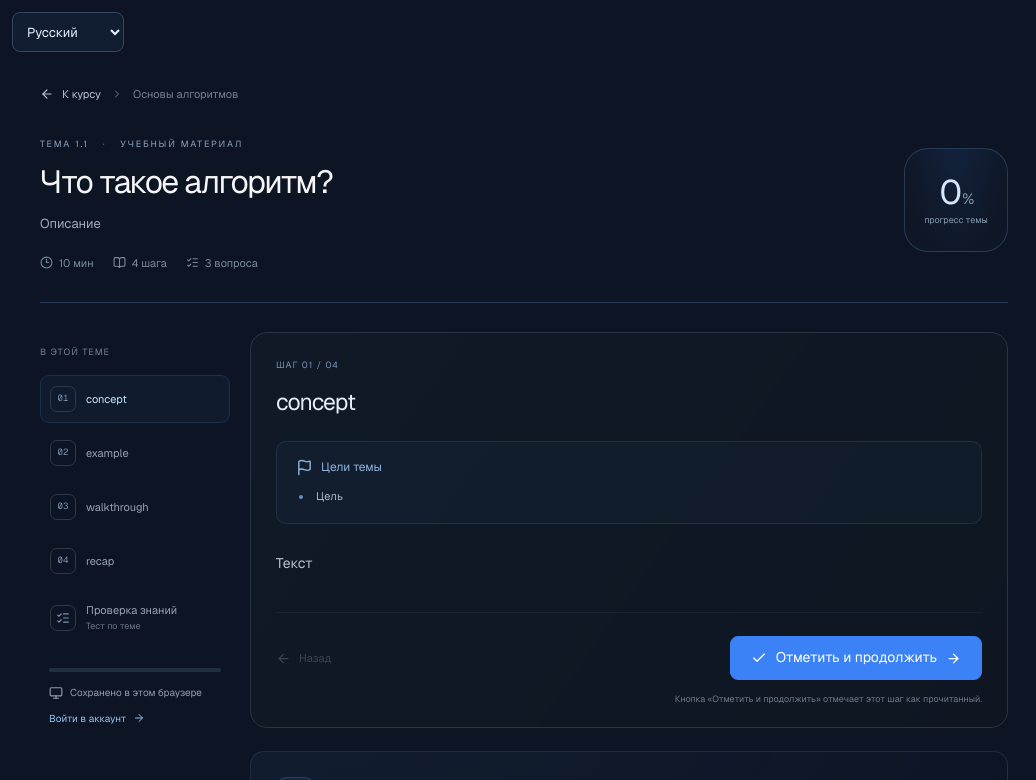
Test: language selection › keeps lesson position and answers when language changes
The image size is (1036, 780).
Click the button "Проверка знаний Тест по теме" at (135, 618), box top-left (40, 591), bottom-right (230, 645)
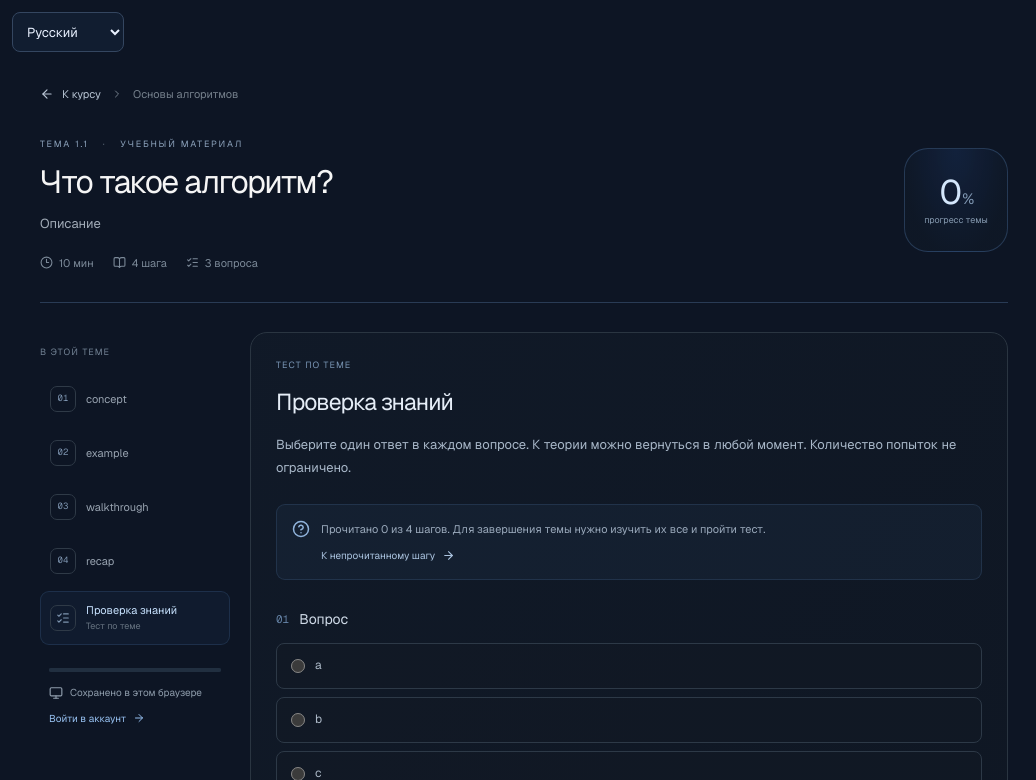
Click the radio button labelled "a" at (298, 666), box top-left (291, 659), bottom-right (305, 673)
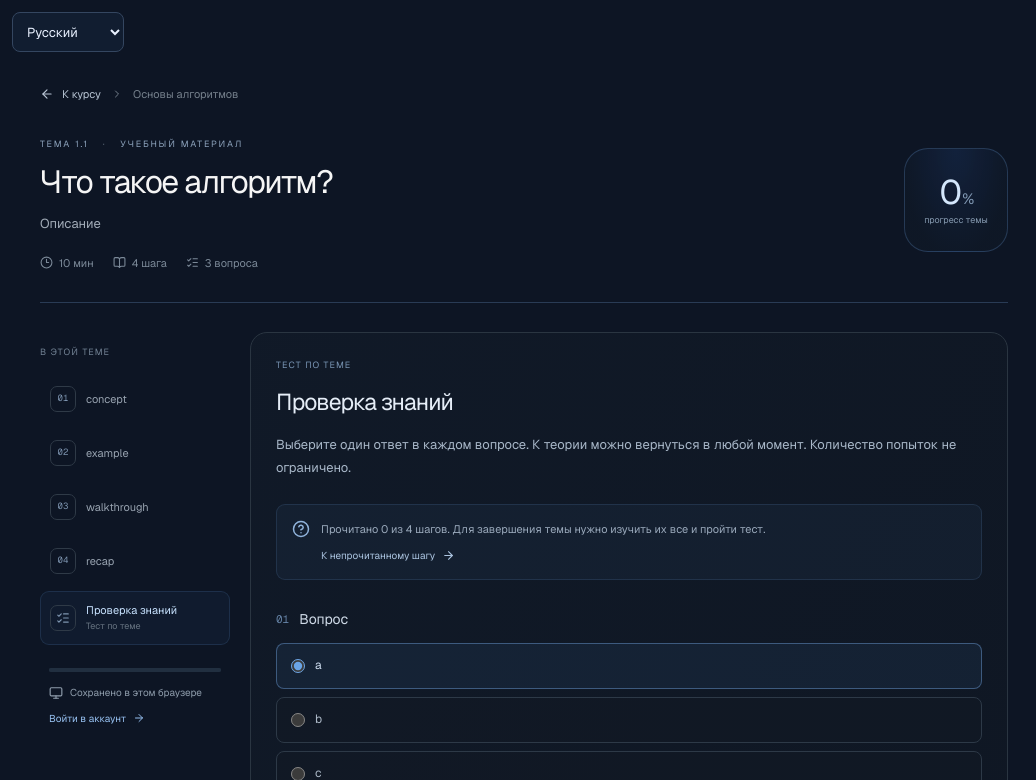
Select "English" in the dropdown at (68, 32), box top-left (12, 12), bottom-right (124, 52)
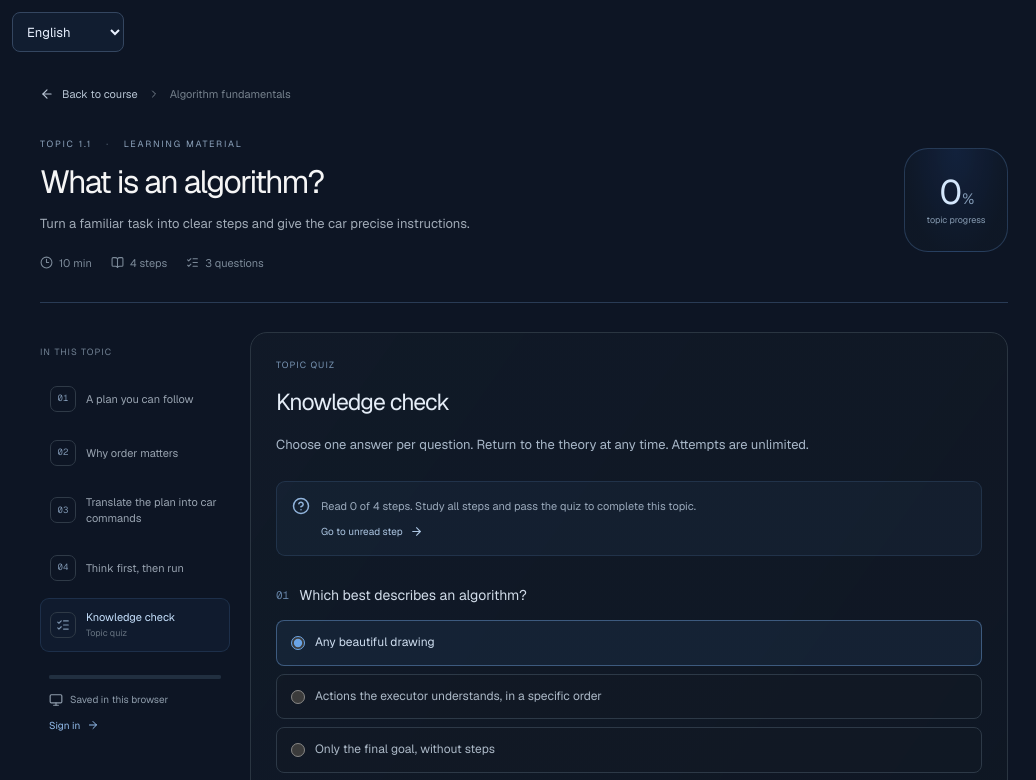
Expected: the radio button labelled "Any beautiful drawing" is checked, top-left (291, 636), bottom-right (305, 650)
Expected: the text "Which best describes an algorithm?" is shown, top-left (299, 586), bottom-right (527, 604)
Select "Қазақша" in the dropdown at (68, 32), box top-left (12, 12), bottom-right (124, 52)
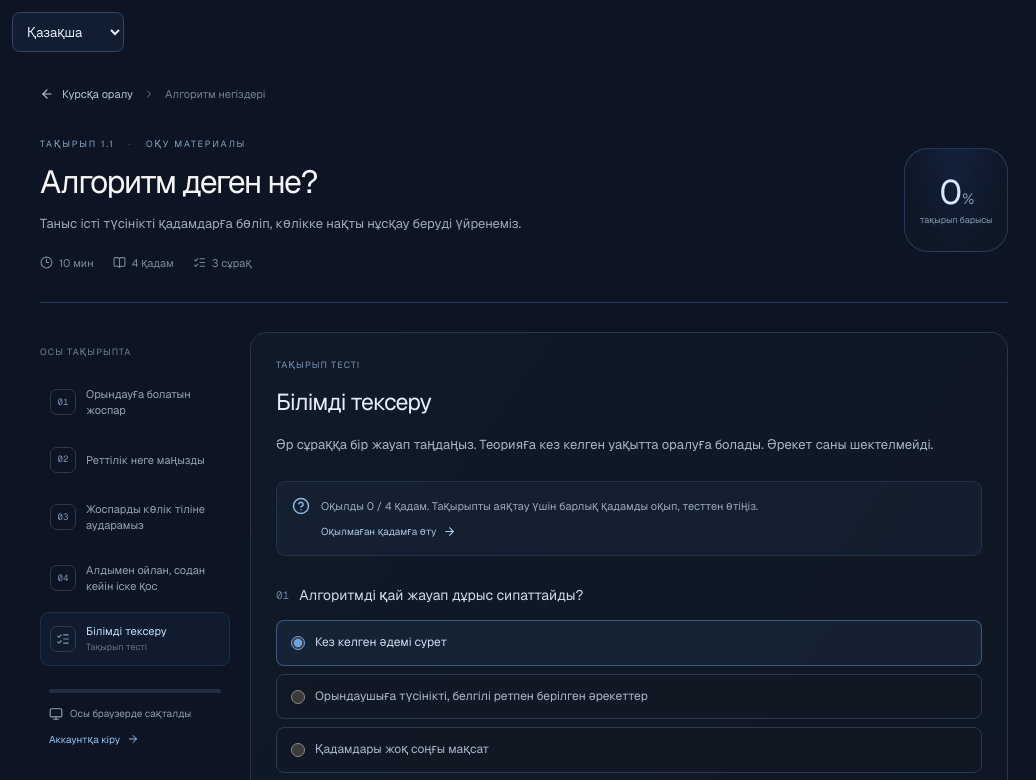
Expected: the text "Алгоритмді қай жауап дұрыс сипаттайды?" is shown, top-left (299, 586), bottom-right (583, 604)
